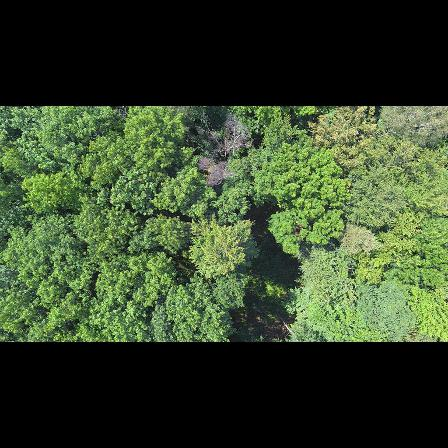Dead: (197, 117, 253, 155), (194, 156, 236, 186)
